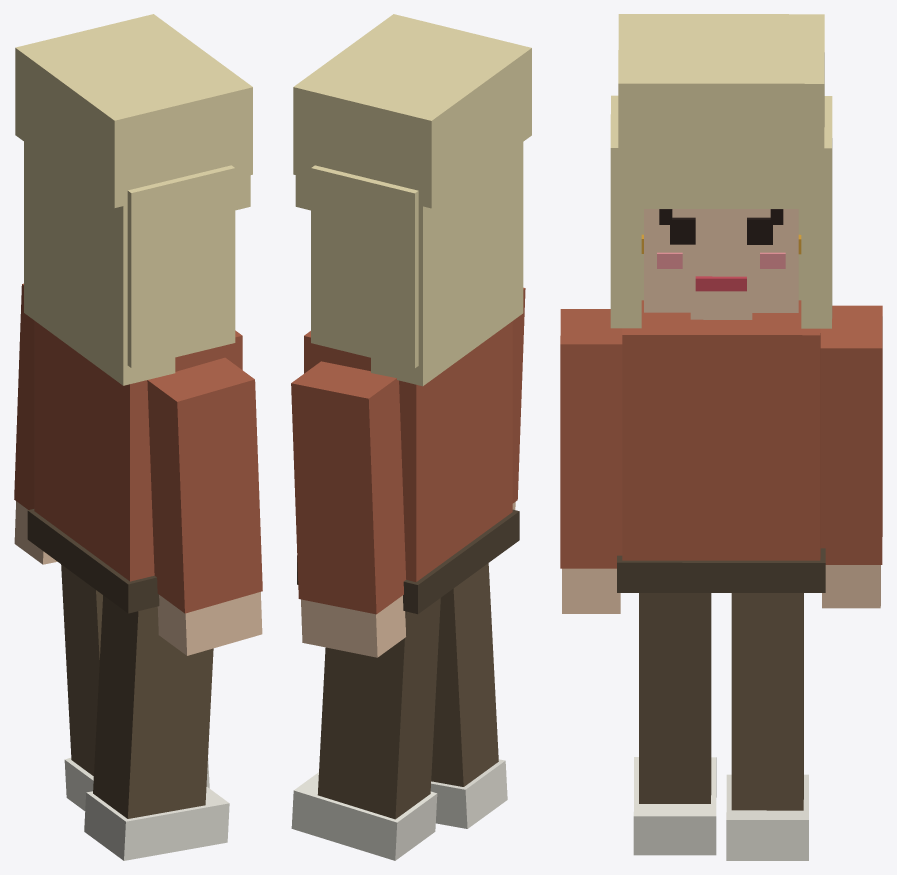
Rendered from walker_1.glb.
3 renders of one model, left to right at view 1: azimuth 30°, elevation 25°; view 2: azimuth 150°, elevation 25°; view 3: azimuth 270°, elevation 25°, orthographic. The views are drawn at different scales.
Parts seen in each view (by area): view 1: Box22, Box7, Box9, Box5, Box26, Box24, Box6, Box1, Box8, Box10, Box3, Box2 (+2 smaller); view 2: Box22, Box3, Box9, Box25, Box1, Box24, Box5, Box2, Box4, Box10, Box6, Box7 (+1 smaller); view 3: Box9, Box22, Box7, Box3, Box1, Box5, Box12, Box23, Box10, Box25, Box26, Box6 (+6 smaller).
Boxes of the visible parts, box(x1,y1,x2,y2) form: Box22: box(15, 14, 252, 207); Box7: box(147, 357, 262, 613); Box9: box(34, 320, 242, 581); Box5: box(93, 595, 213, 818); Box26: box(127, 165, 235, 367); Box24: box(24, 142, 175, 385); Box6: box(84, 787, 229, 860); Box1: box(61, 564, 102, 776); Box8: box(157, 592, 262, 655); Box10: box(27, 509, 159, 613); Box3: box(14, 283, 34, 509); Box2: box(64, 757, 209, 810); Box22: box(293, 14, 531, 208); Box3: box(291, 361, 406, 614); Box9: box(304, 321, 512, 581); Box25: box(311, 165, 418, 368); Box1: box(317, 598, 440, 819); Box24: box(371, 142, 523, 386); Box5: box(431, 563, 498, 786); Box2: box(291, 772, 437, 860); Box4: box(301, 595, 405, 657); Box10: box(297, 509, 519, 614); Box6: box(430, 759, 507, 828); Box7: box(512, 287, 525, 503); Box9: box(622, 300, 820, 560); Box22: box(618, 14, 824, 173); Box7: box(560, 309, 622, 568); Box3: box(820, 305, 882, 564); Box1: box(731, 593, 803, 810); Box5: box(639, 593, 711, 803); Box12: box(644, 209, 798, 312); Box23: box(623, 108, 819, 209); Box10: box(617, 548, 825, 592); Box25: box(801, 96, 832, 328); Box26: box(610, 95, 641, 328); Box6: box(633, 757, 716, 855).
Size of the model in its own units: 0.3879 by 1.9 by 0.7093.
